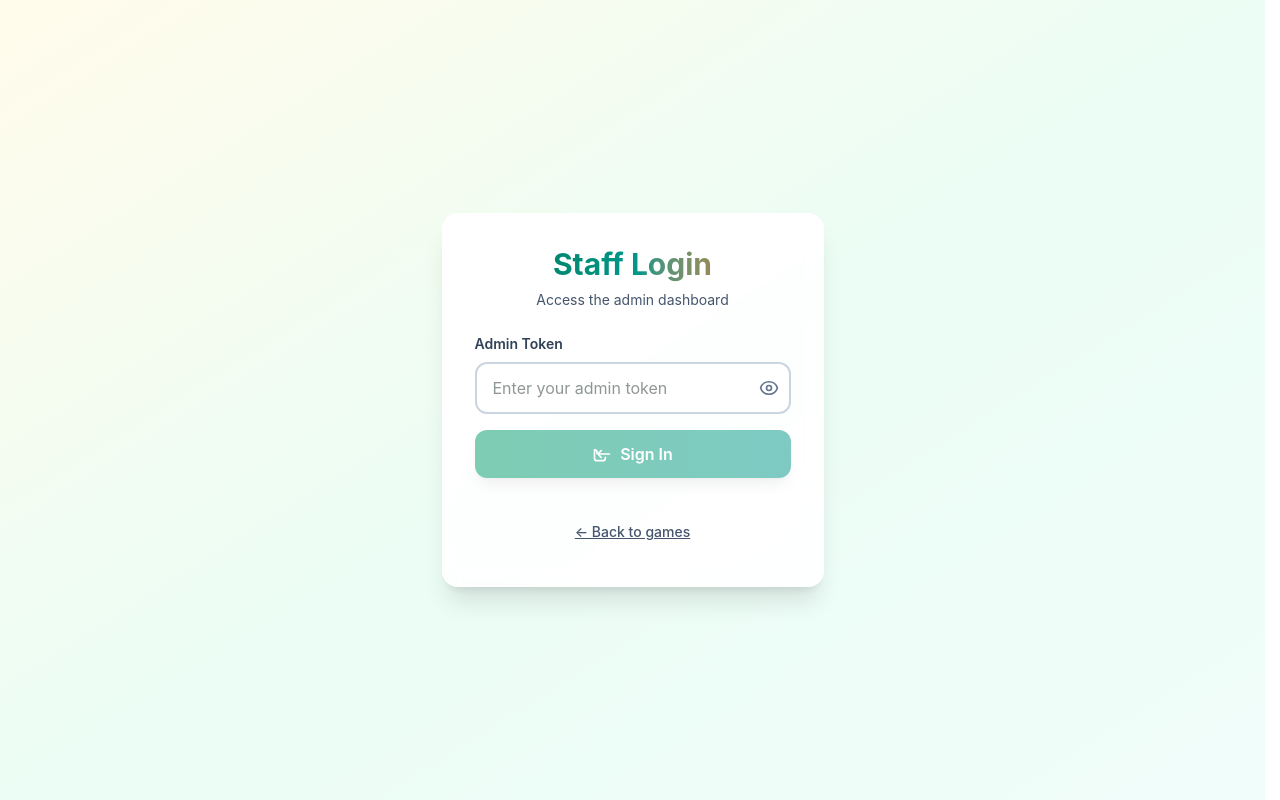
Test: AdminLogin Page › displays error for invalid token
The image size is (1280, 800).
Type "invalid-token-123" into the password field labelled "Admin Token" at (632, 388), box [474,362,790,414]
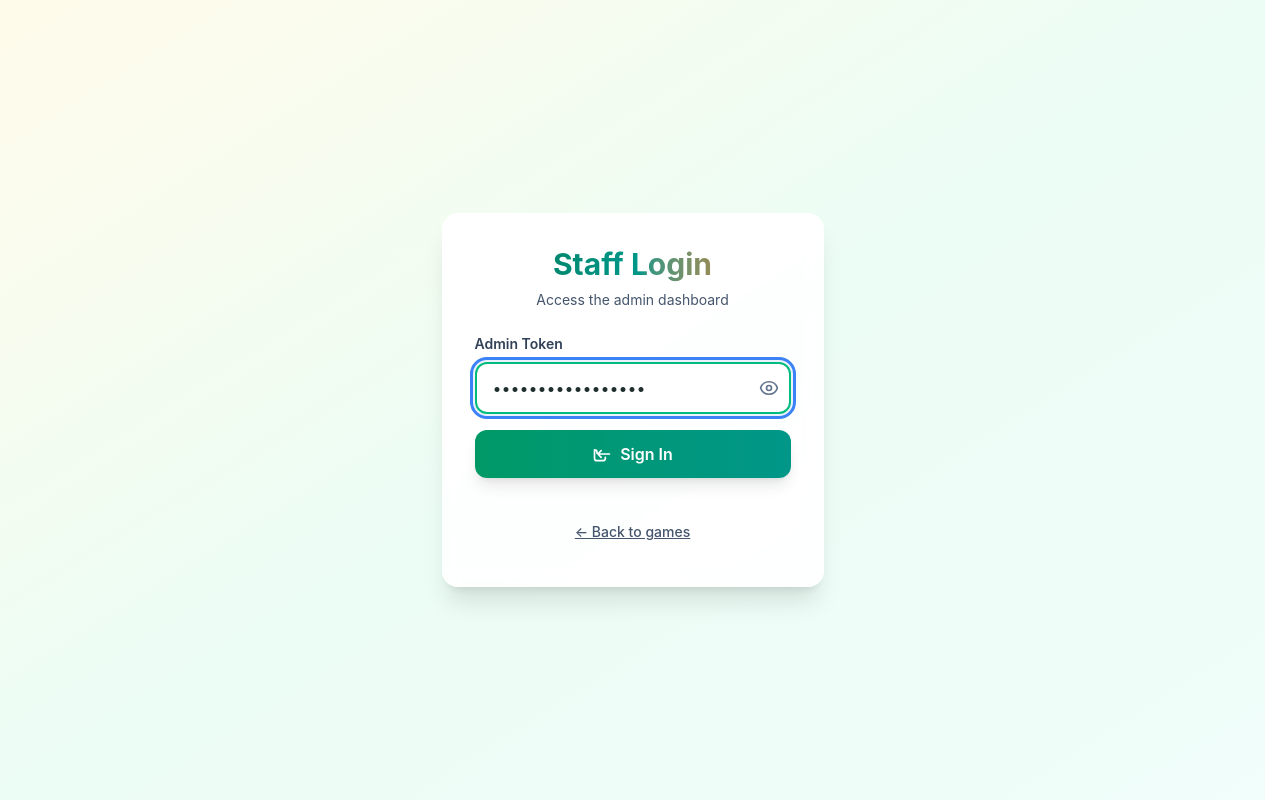
Click the button "Sign In" at (632, 454), box [474,430,790,478]
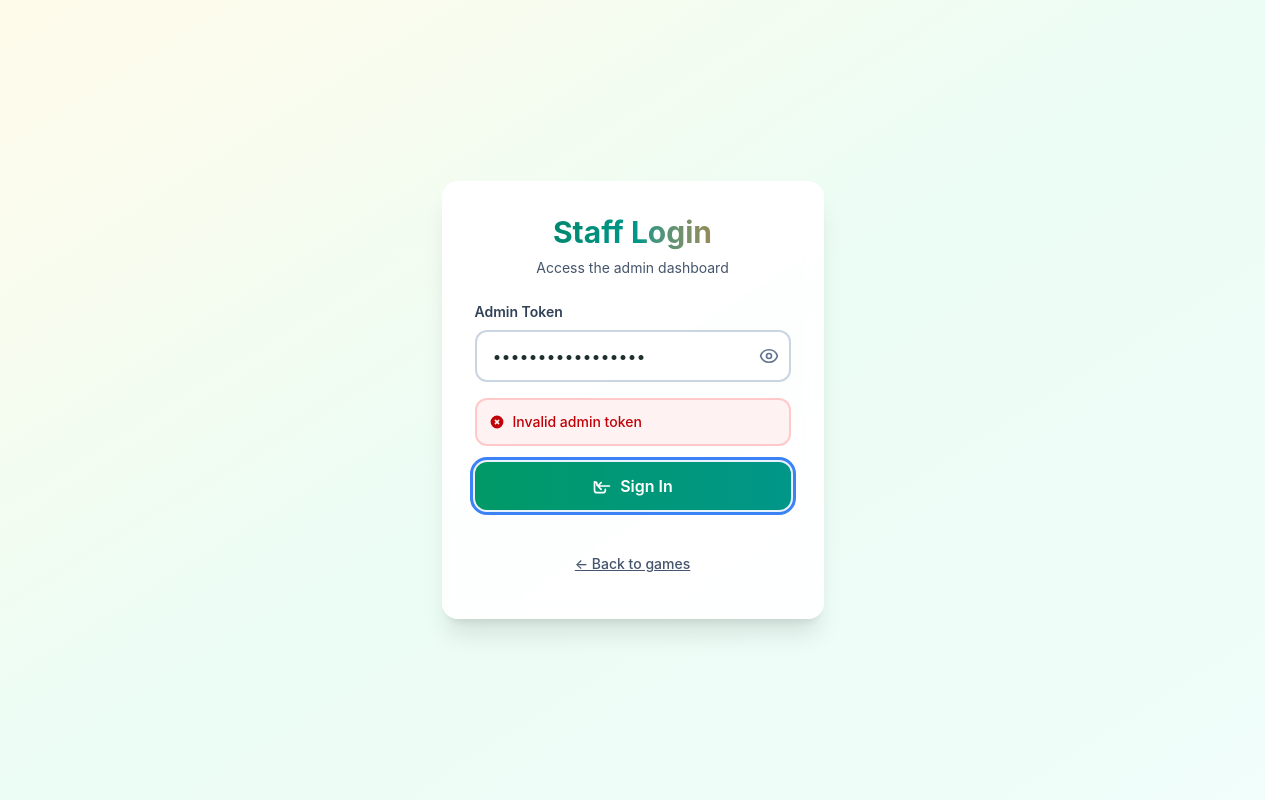
expect the text "Invalid admin token" is shown: met, box [488,413,642,430]
